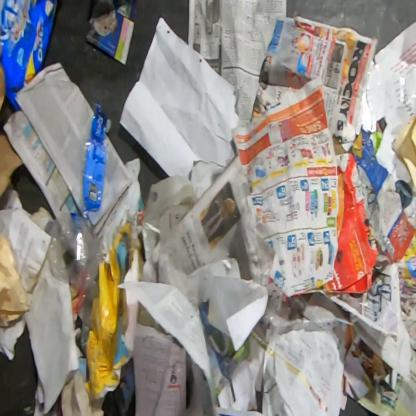cardboard: (283, 153, 382, 301), (78, 220, 140, 400), (348, 128, 415, 264), (196, 296, 269, 398), (0, 234, 31, 328), (0, 120, 25, 200)
rigid_plastic: (43, 102, 112, 359)
soft_plastic: (0, 0, 59, 112)
